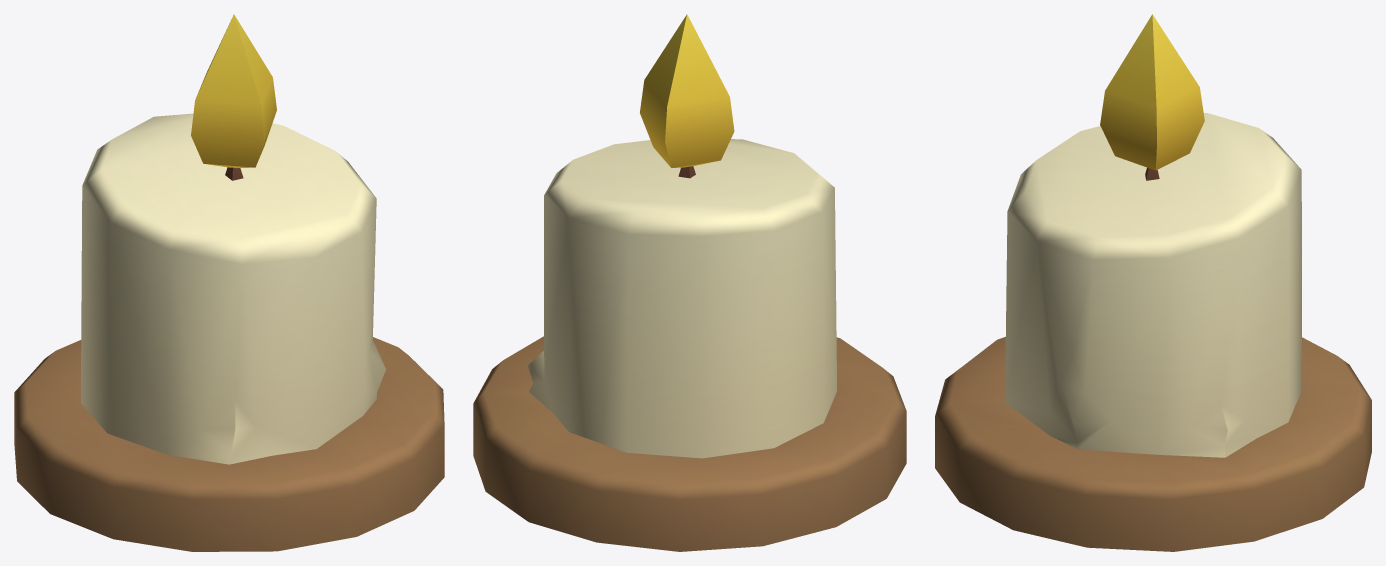
Rendered from WBA_Witch_Cauldron_Candle_02.fbx.
3 views of the same model, side by side, from view 1: azimuth 30°, elevation 25°; view 2: azimuth 150°, elevation 25°; view 3: azimuth 270°, elevation 25° (orthographic).
Visible parts, largest first — view 1: WBA_Witch_Cauldron_Candle_02; view 2: WBA_Witch_Cauldron_Candle_02; view 3: WBA_Witch_Cauldron_Candle_02.
Part boxes in pixels (x1=…): WBA_Witch_Cauldron_Candle_02: x1=14, y1=14, x2=444, y2=551; WBA_Witch_Cauldron_Candle_02: x1=473, y1=14, x2=906, y2=551; WBA_Witch_Cauldron_Candle_02: x1=935, y1=14, x2=1371, y2=551.
Bounding box in the file's own units: 9.79 × 11.06 × 9.79.
